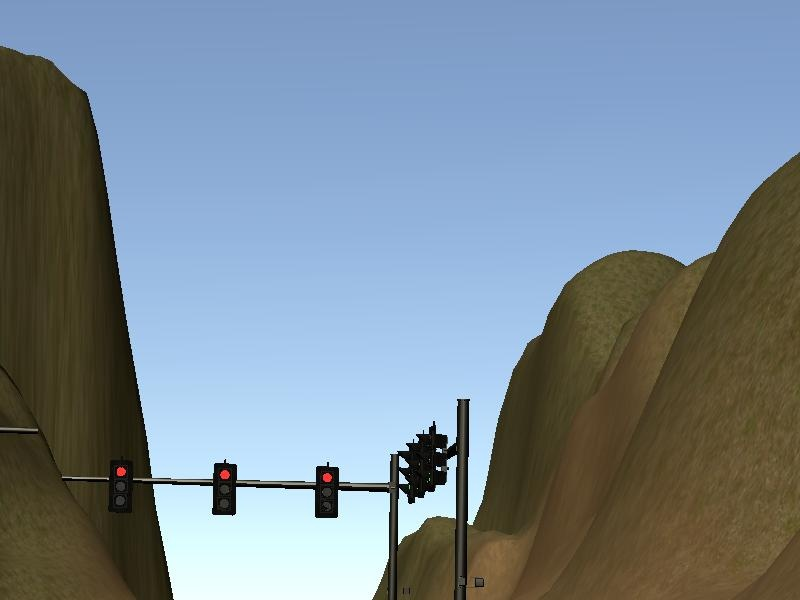traffic_light_red: (91, 456, 390, 520)
